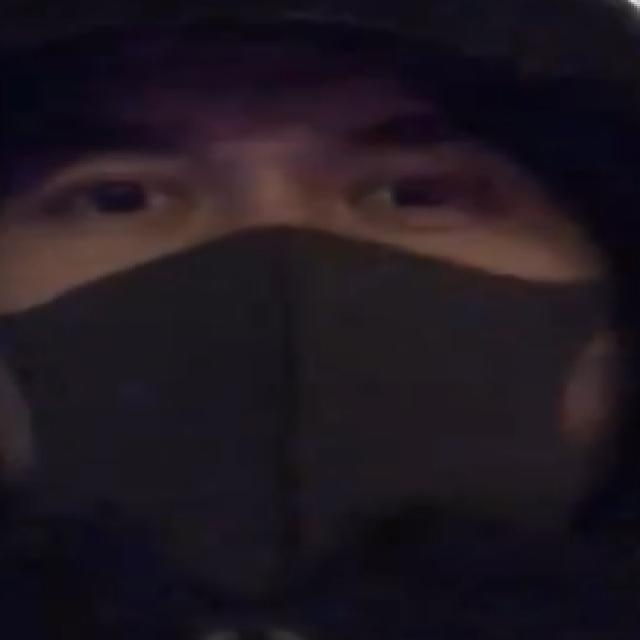mask: (0, 112, 637, 640)
